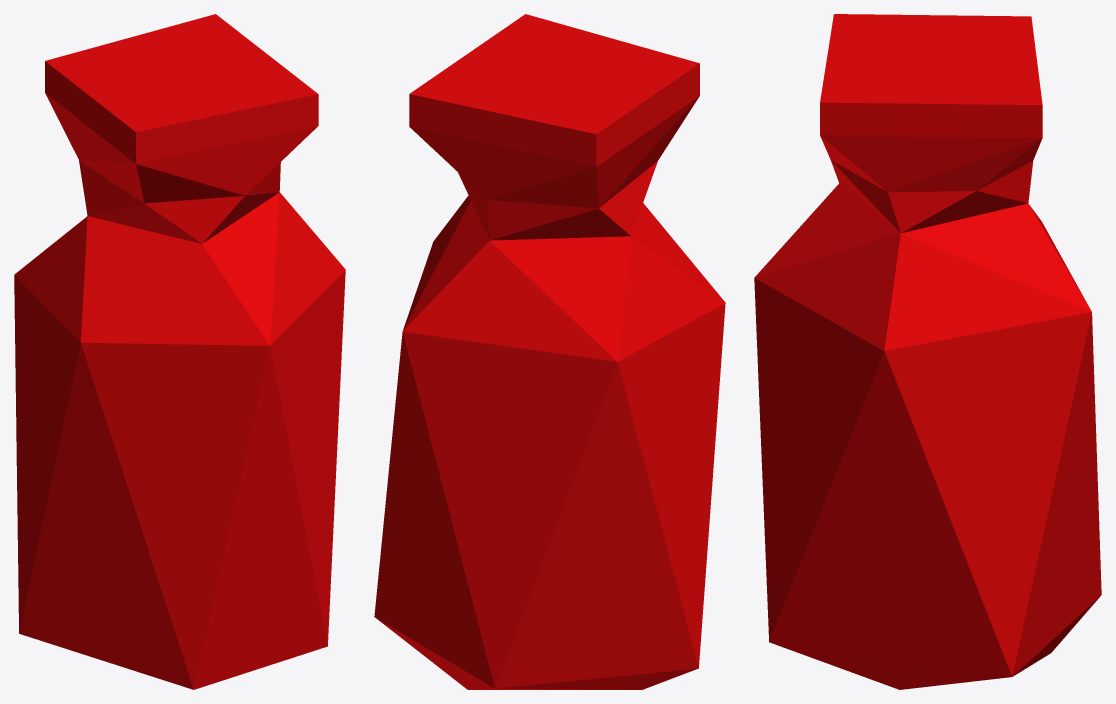
File: potion_heal.glb
The picture shows the model from 3 angles, left to right: view 1: azimuth 30°, elevation 25°; view 2: azimuth 150°, elevation 25°; view 3: azimuth 270°, elevation 25°; orthographic projection. The views are drawn at different scales.
Parts seen in each view (by area): view 1: Cylinder; view 2: Cylinder; view 3: Cylinder.
Part boxes in pixels (x1,y1,x2,y2): Cylinder: (14,14,345,689); Cylinder: (374,14,725,689); Cylinder: (754,14,1101,689).
Bounding box in the file's own units: 1.17 × 2.15 × 1.17.
